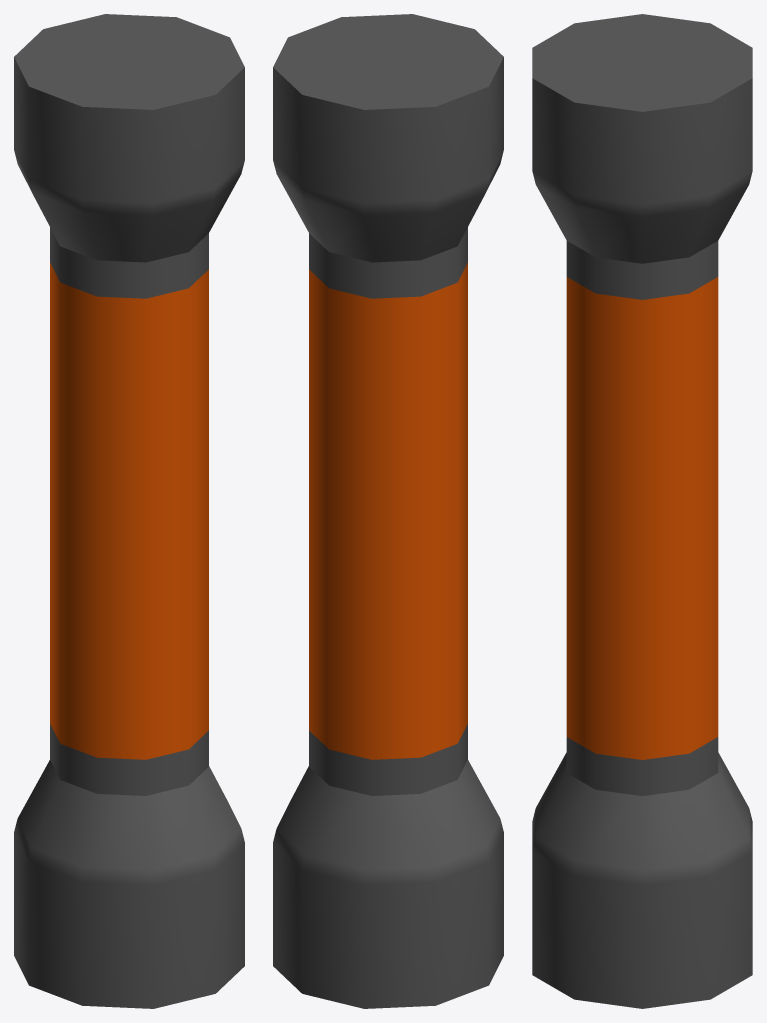
The model's file is env_ruin_pillar_01.fbx.
3 views of the same model, side by side, from view 1: azimuth 30°, elevation 25°; view 2: azimuth 150°, elevation 25°; view 3: azimuth 270°, elevation 25° (orthographic).
Visible parts, largest first — view 1: env_ruin_pillar_01_lod0.004; view 2: env_ruin_pillar_01_lod0.004; view 3: env_ruin_pillar_01_lod0.004.
Part boxes in pixels (x1,y1,x2,y2): env_ruin_pillar_01_lod0.004: (14,14,244,1008); env_ruin_pillar_01_lod0.004: (273,14,503,1008); env_ruin_pillar_01_lod0.004: (532,14,752,1008).
Size of the model in its own units: 6.67 by 28.5 by 6.35.
